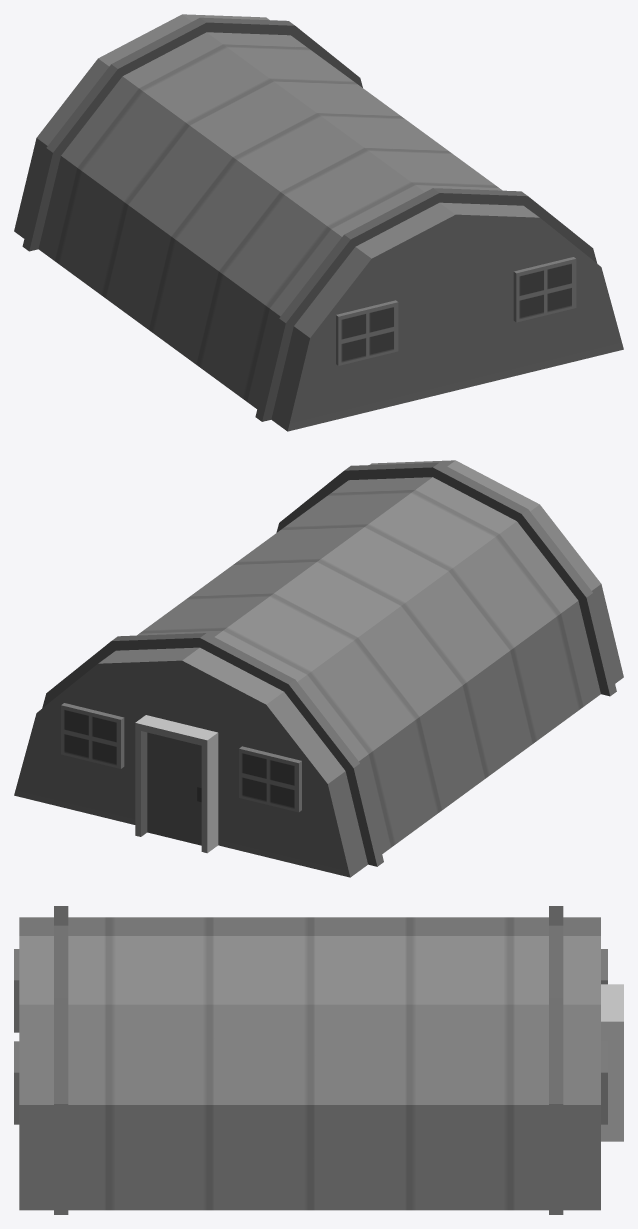
Rendered from SM_Bld_Building_02.gltf.
The picture shows the model from 3 angles, top to bottom: view 1: azimuth 30°, elevation 25°; view 2: azimuth 150°, elevation 25°; view 3: azimuth 270°, elevation 25°; orthographic projection. The views are drawn at different scales.
Parts seen in each view (by area): view 1: SM_Bld_Building_02; view 2: SM_Bld_Building_02; view 3: SM_Bld_Building_02.
Boxes of the visible parts, bbox=[...] form: SM_Bld_Building_02: bbox=[14, 14, 623, 431]; SM_Bld_Building_02: bbox=[14, 460, 623, 877]; SM_Bld_Building_02: bbox=[14, 906, 623, 1214].
Bounding box in the file's own units: 12.68 × 6.34 × 17.76.
1 material, 1 textured.
